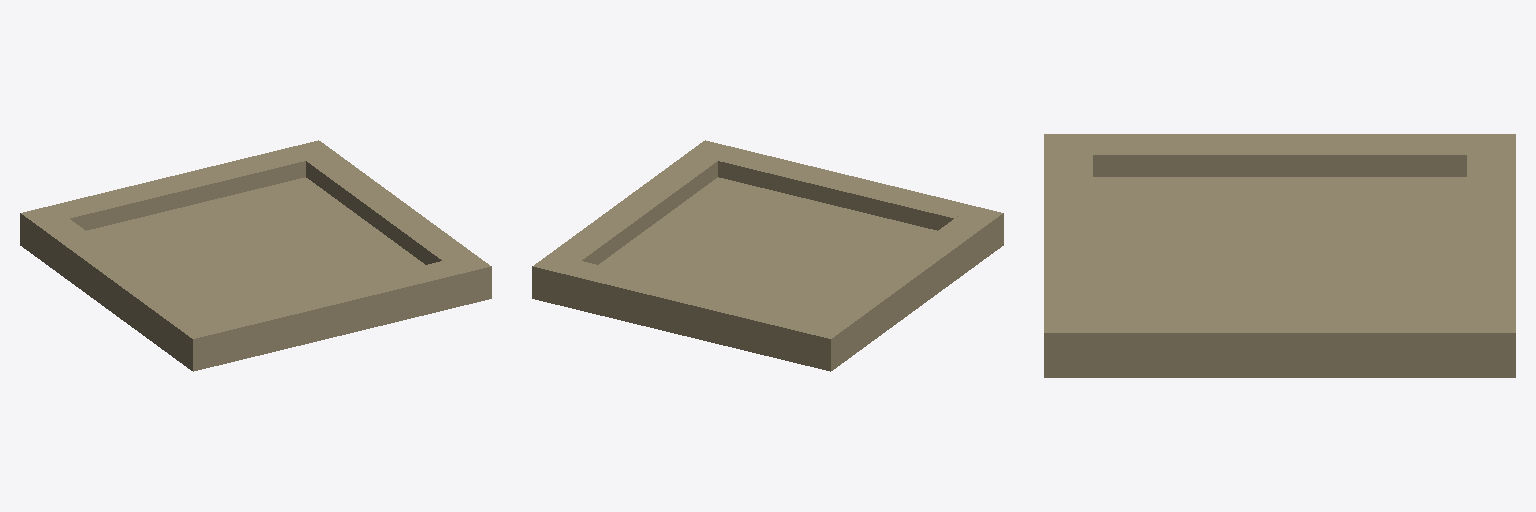
URDF robot description (puzzle_base):
<?xml version="1.0"?>
<robot name="puzzle_base">
	<link name="base_link">
		<visual>
			<origin xyz="0.000000000000e+00 0.000000000000e+00 3.000000000000e-03" rpy="0.000000000000e+00 -0.000000000000e+00 0.000000000000e+00" />
			<geometry>
				<box size="9.150000000000e-02 9.150000000000e-02 6.000000000000e-03" />
			</geometry>
			<material name="mat__0">
				<color rgba="0.651 0.602 0.497 1" />
			</material>
		</visual>
		<visual>
			<origin xyz="0.000000000000e+00 5.175000000000e-02 6.000000000000e-03" rpy="0.000000000000e+00 -0.000000000000e+00 0.000000000000e+00" />
			<geometry>
				<box size="9.150000000000e-02 1.200000000000e-02 1.200000000000e-02" />
			</geometry>
			<material name="mat__1">
				<color rgba="0.651 0.602 0.497 1" />
			</material>
		</visual>
		<visual>
			<origin xyz="0.000000000000e+00 -5.175000000000e-02 6.000000000000e-03" rpy="0.000000000000e+00 -0.000000000000e+00 0.000000000000e+00" />
			<geometry>
				<box size="9.150000000000e-02 1.200000000000e-02 1.200000000000e-02" />
			</geometry>
			<material name="mat__2">
				<color rgba="0.651 0.602 0.497 1" />
			</material>
		</visual>
		<visual>
			<origin xyz="5.175000000000e-02 0.000000000000e+00 6.000000000000e-03" rpy="0.000000000000e+00 -0.000000000000e+00 0.000000000000e+00" />
			<geometry>
				<box size="1.200000000000e-02 1.155000000000e-01 1.200000000000e-02" />
			</geometry>
			<material name="mat__3">
				<color rgba="0.651 0.602 0.497 1" />
			</material>
		</visual>
		<visual>
			<origin xyz="-5.175000000000e-02 0.000000000000e+00 6.000000000000e-03" rpy="0.000000000000e+00 -0.000000000000e+00 0.000000000000e+00" />
			<geometry>
				<box size="1.200000000000e-02 1.155000000000e-01 1.200000000000e-02" />
			</geometry>
			<material name="mat__4">
				<color rgba="0.651 0.602 0.497 1" />
			</material>
		</visual>
		<collision>
			<origin xyz="0.000000000000e+00 0.000000000000e+00 3.000000000000e-03" rpy="0.000000000000e+00 -0.000000000000e+00 0.000000000000e+00" />
			<geometry>
				<box size="9.150000000000e-02 9.150000000000e-02 6.000000000000e-03" />
			</geometry>
			<material name="mat__5">
				<color rgba="0.651 0.602 0.497 1" />
			</material>
		</collision>
		<collision>
			<origin xyz="0.000000000000e+00 5.175000000000e-02 6.000000000000e-03" rpy="0.000000000000e+00 -0.000000000000e+00 0.000000000000e+00" />
			<geometry>
				<box size="9.150000000000e-02 1.200000000000e-02 1.200000000000e-02" />
			</geometry>
			<material name="mat__6">
				<color rgba="0.651 0.602 0.497 1" />
			</material>
		</collision>
		<collision>
			<origin xyz="0.000000000000e+00 -5.175000000000e-02 6.000000000000e-03" rpy="0.000000000000e+00 -0.000000000000e+00 0.000000000000e+00" />
			<geometry>
				<box size="9.150000000000e-02 1.200000000000e-02 1.200000000000e-02" />
			</geometry>
			<material name="mat__7">
				<color rgba="0.651 0.602 0.497 1" />
			</material>
		</collision>
		<collision>
			<origin xyz="5.175000000000e-02 0.000000000000e+00 6.000000000000e-03" rpy="0.000000000000e+00 -0.000000000000e+00 0.000000000000e+00" />
			<geometry>
				<box size="1.200000000000e-02 1.155000000000e-01 1.200000000000e-02" />
			</geometry>
			<material name="mat__8">
				<color rgba="0.651 0.602 0.497 1" />
			</material>
		</collision>
		<collision>
			<origin xyz="-5.175000000000e-02 0.000000000000e+00 6.000000000000e-03" rpy="0.000000000000e+00 -0.000000000000e+00 0.000000000000e+00" />
			<geometry>
				<box size="1.200000000000e-02 1.155000000000e-01 1.200000000000e-02" />
			</geometry>
			<material name="mat__9">
				<color rgba="0.651 0.602 0.497 1" />
			</material>
		</collision>
		<inertial>
			<mass value="0.021969900000000001" />
			<origin xyz="0.000000000000e+00 0.000000000000e+00 4.628118471181e-03" />
			<inertia ixx="2.8805287159783239e-05" ixy="0" ixz="0" iyy="2.8805287159783243e-05" iyz="0" izz="4.3988737331249997e-05" />
		</inertial>
	</link>
</robot>

--- Render facts (derived) ---
3 views of the same robot in one strip: view 1: azimuth 30°, elevation 25°; view 2: azimuth 150°, elevation 25°; view 3: azimuth 270°, elevation 25° (orthographic).
Model puzzle_base with 1 links and 0 joints (none), rooted at base_link, posed all joints at 0.
Visible links, largest first — view 1: base_link; view 2: base_link; view 3: base_link.
Link boxes in pixels (bbox=[...]): base_link: bbox=[20, 140, 491, 371]; base_link: bbox=[532, 140, 1003, 371]; base_link: bbox=[1044, 134, 1515, 377].
Bounding box of the posed robot: 0.1155 × 0.1155 × 0.012 m (x, y, z).
Geometry: primitives only (box / cylinder / sphere), no mesh files.